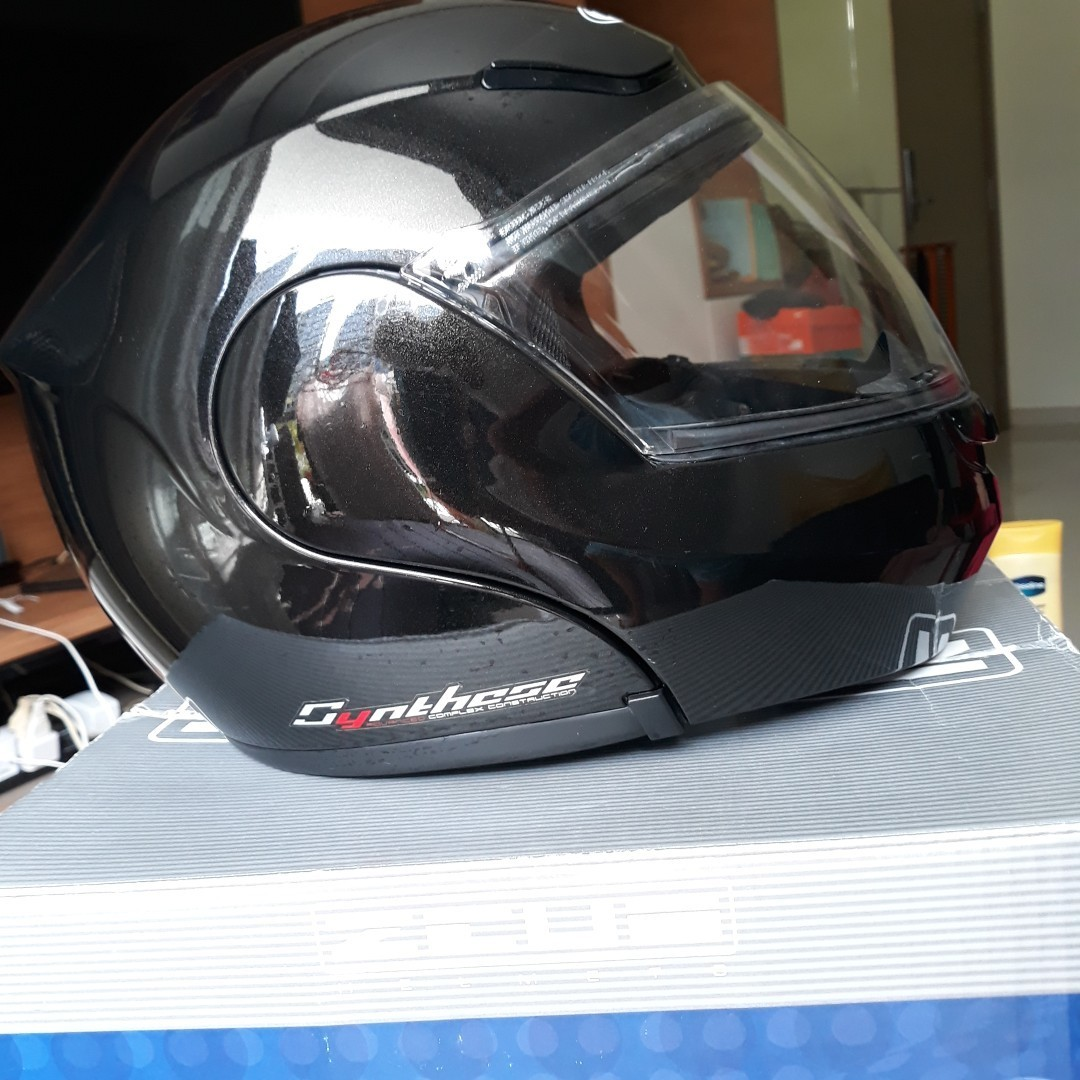with_helmet: (7, 5, 1020, 793)
